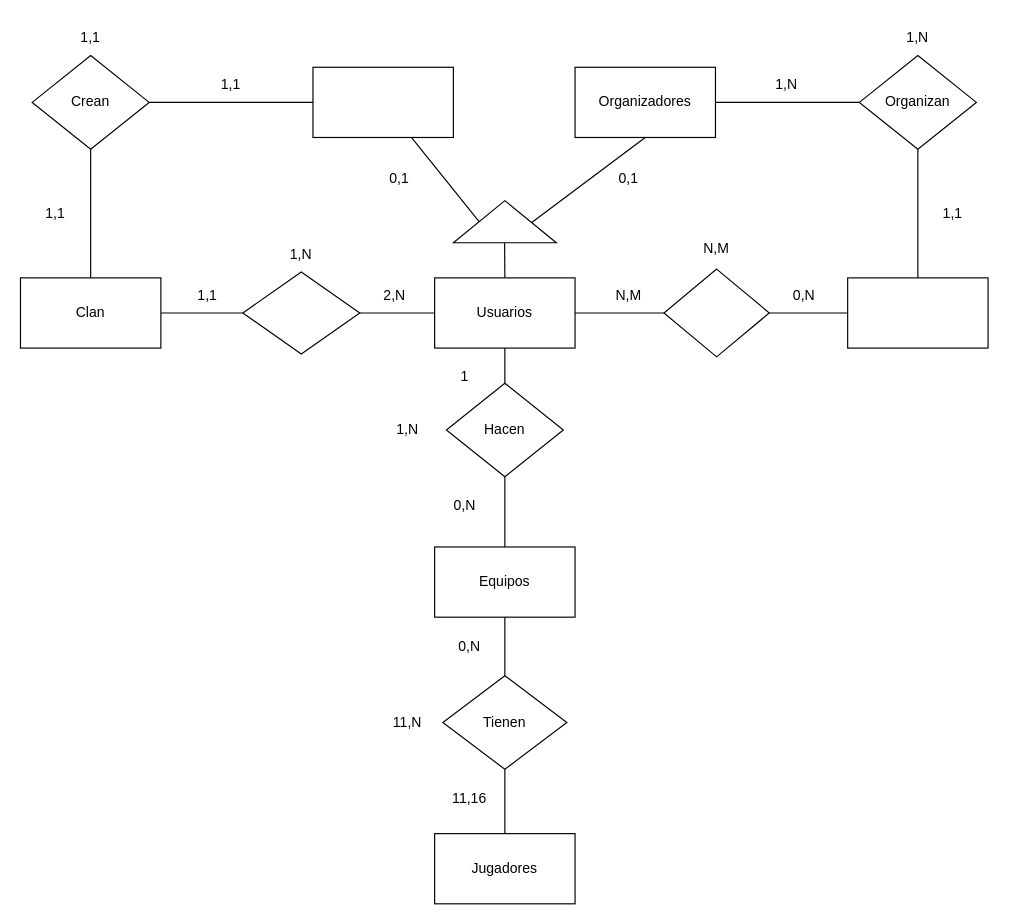
This 1009x924 diagram has some shape labels left out. The shapes that lost their labels are listed below. From the top down, each one's box as (x1, y1, x2, y2) in pixels, then its label:
(312, 66, 453, 137): Capitanes
(242, 271, 360, 354): Están
(663, 268, 769, 357): Participan
(846, 277, 988, 348): Torneo
